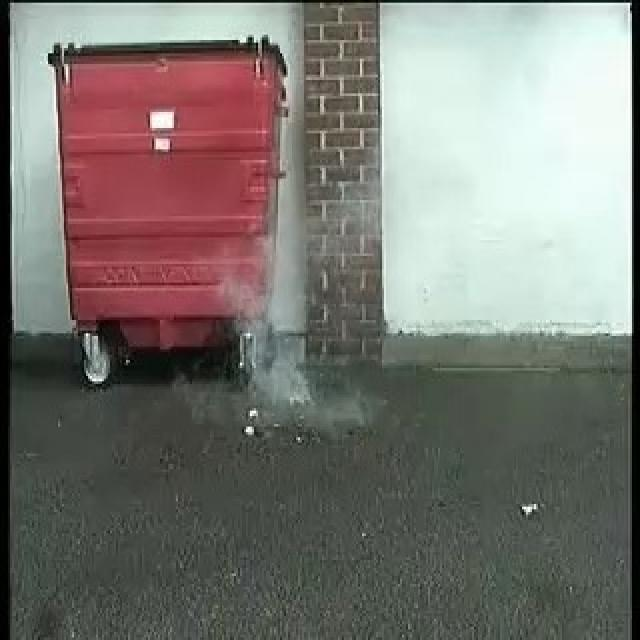smoke: (236, 295, 316, 420)
